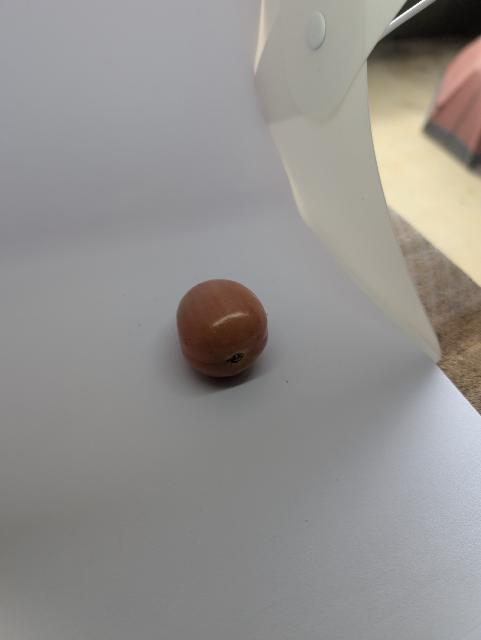red: (158, 266, 283, 408)
